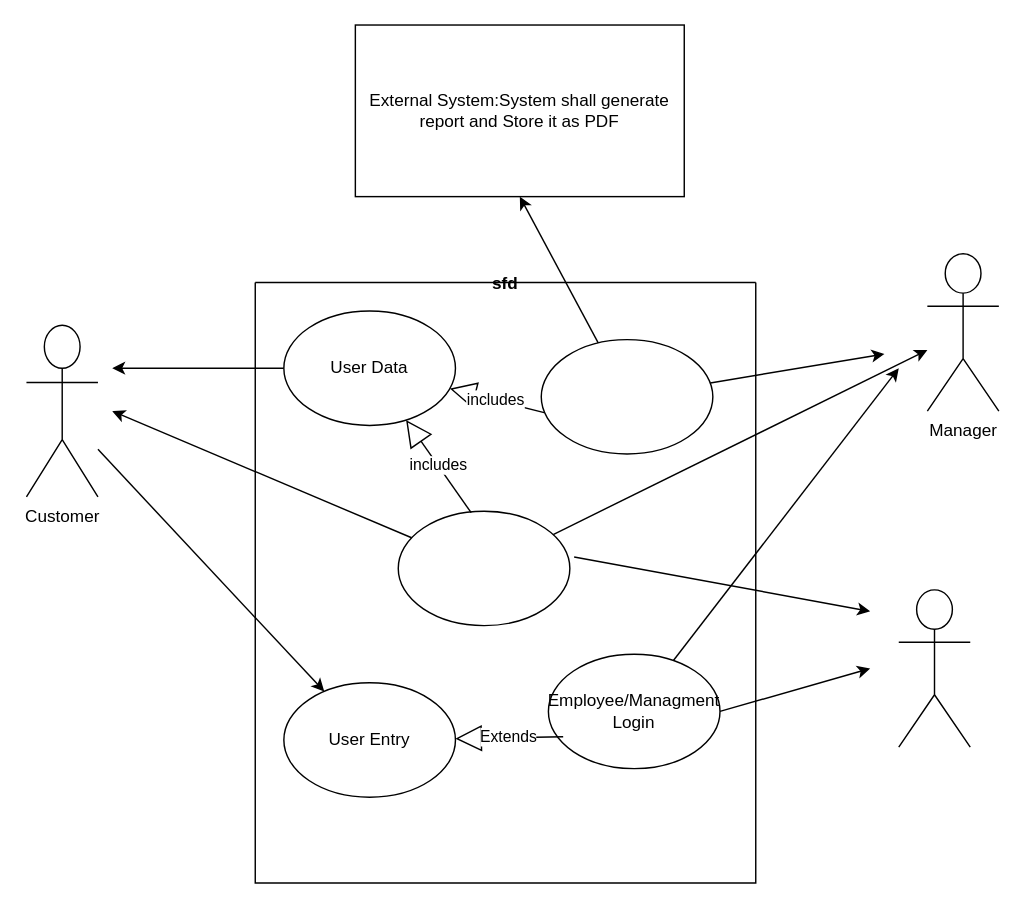
This 1024x908 diagram has some shape labels left out. The shapes that lost their labels are listed below. From the top down, each one's box as (x1, y1, x2, y2) in pixels, then its label:
(540, 338, 713, 454): Report Generation
(397, 510, 570, 626): Renewal Notices
(897, 588, 970, 747): Staff
